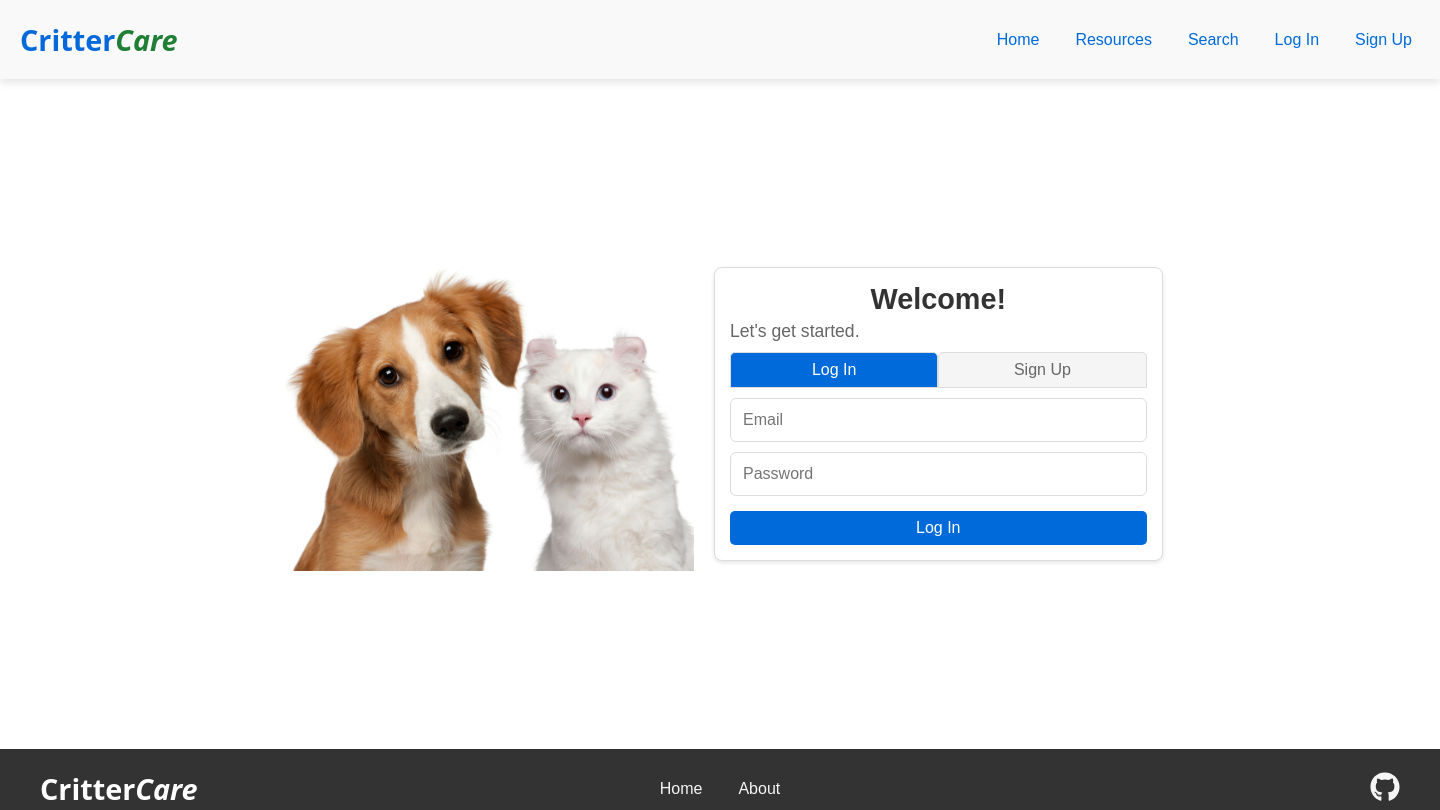
Test: LoginPage Component › switches between login and signup forms
Click the button with test id "signup-tab": {"x": 1042, "y": 370} [938,352,1147,388]
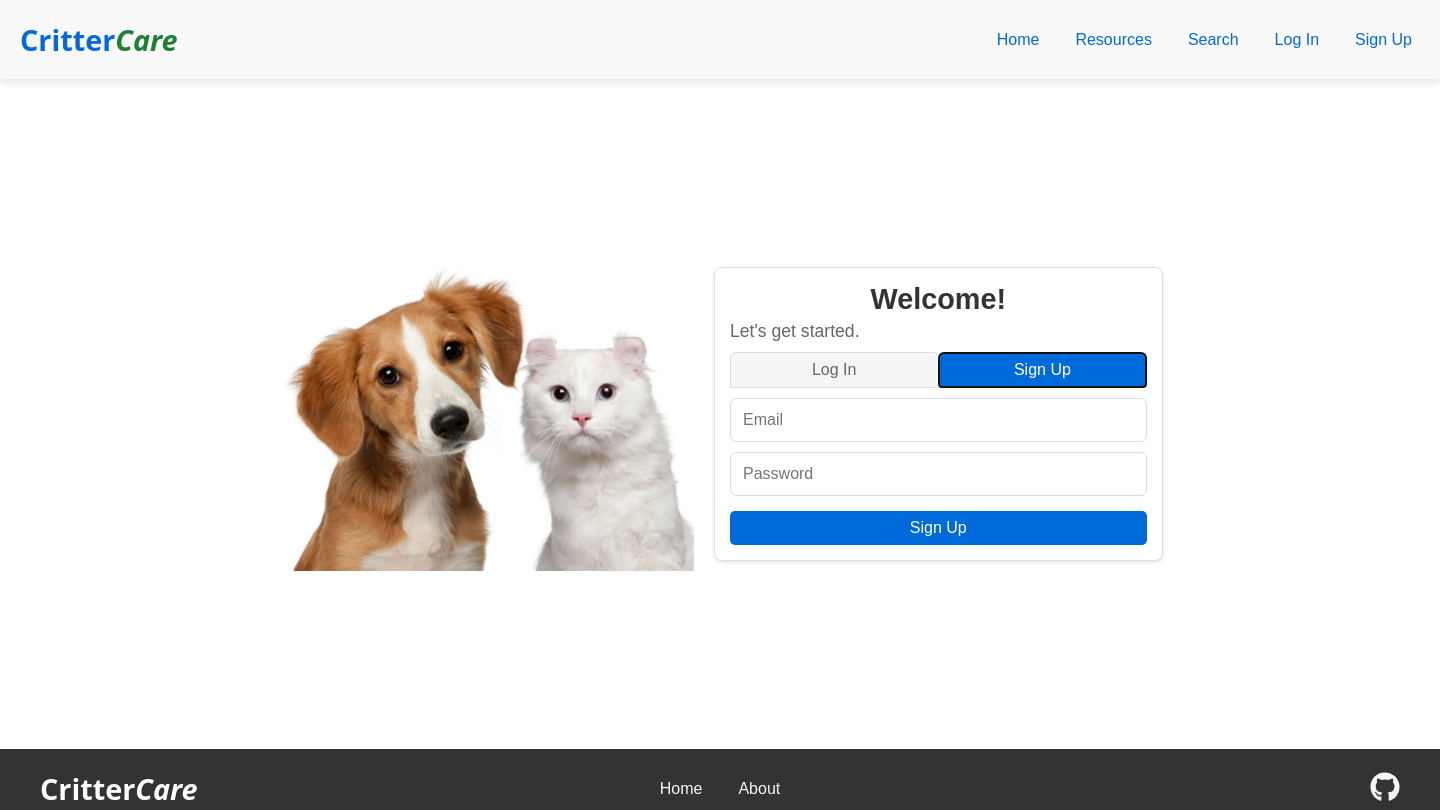
expect the form with test id "signup-form" is shown: met, box [730,398,1146,545]
